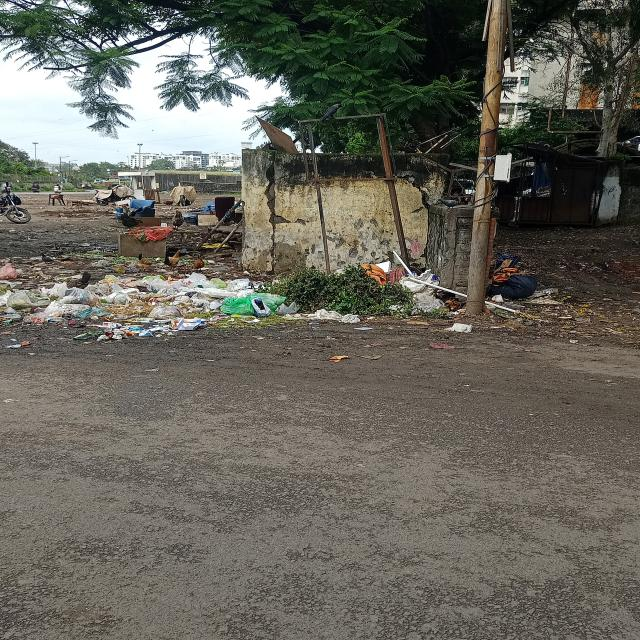garbage: (107, 264, 449, 329), (0, 269, 109, 326)
